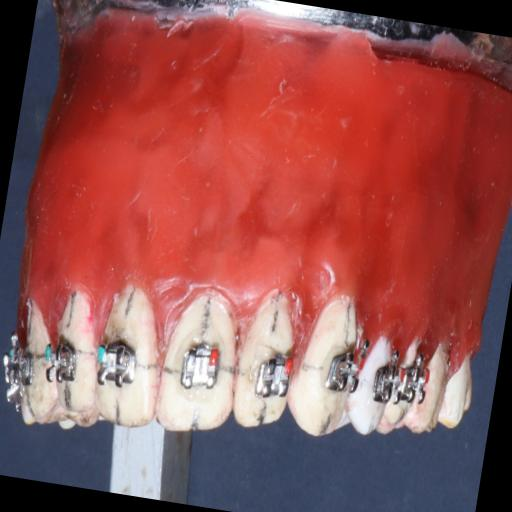incorrect_brace: (227, 284, 305, 434), (176, 340, 224, 395), (254, 352, 294, 401)
